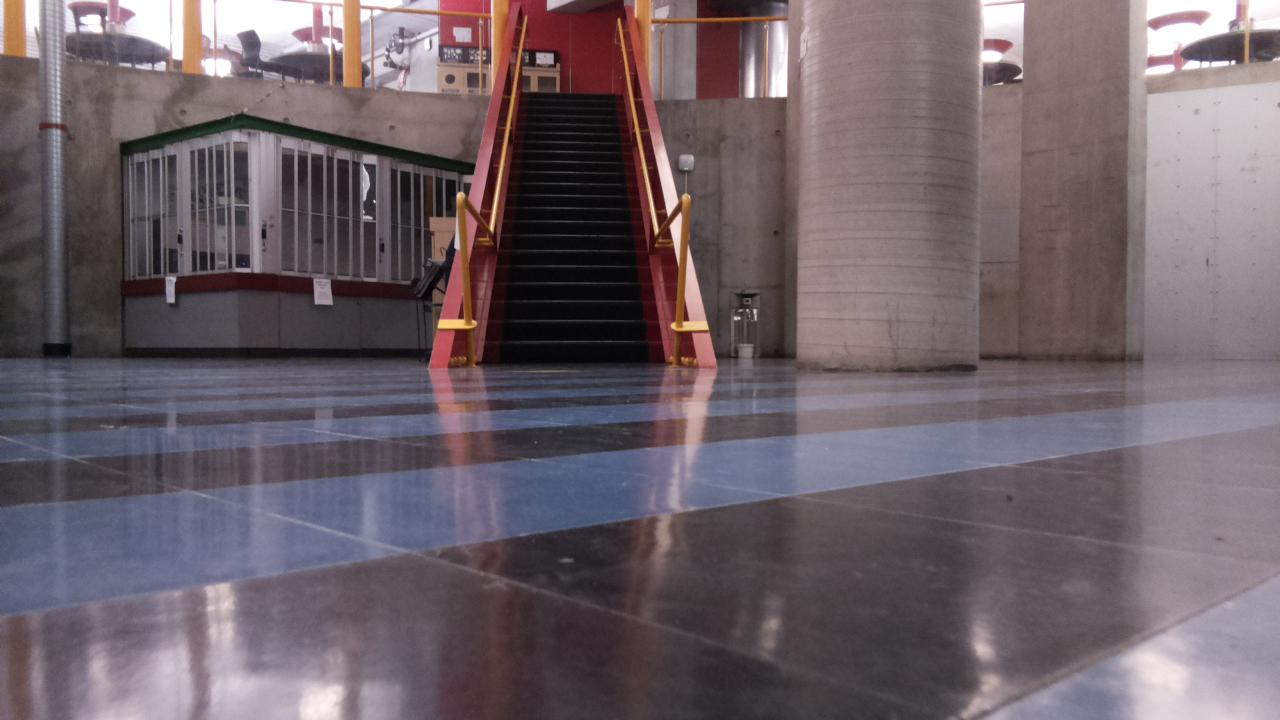sign: (443, 48, 553, 67)
stair: (477, 91, 668, 362)
